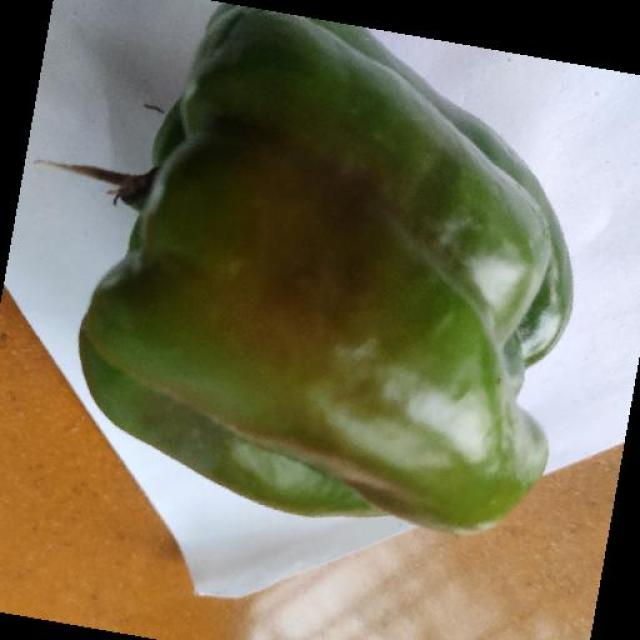Stale_Capsicum: (124, 17, 611, 545)
